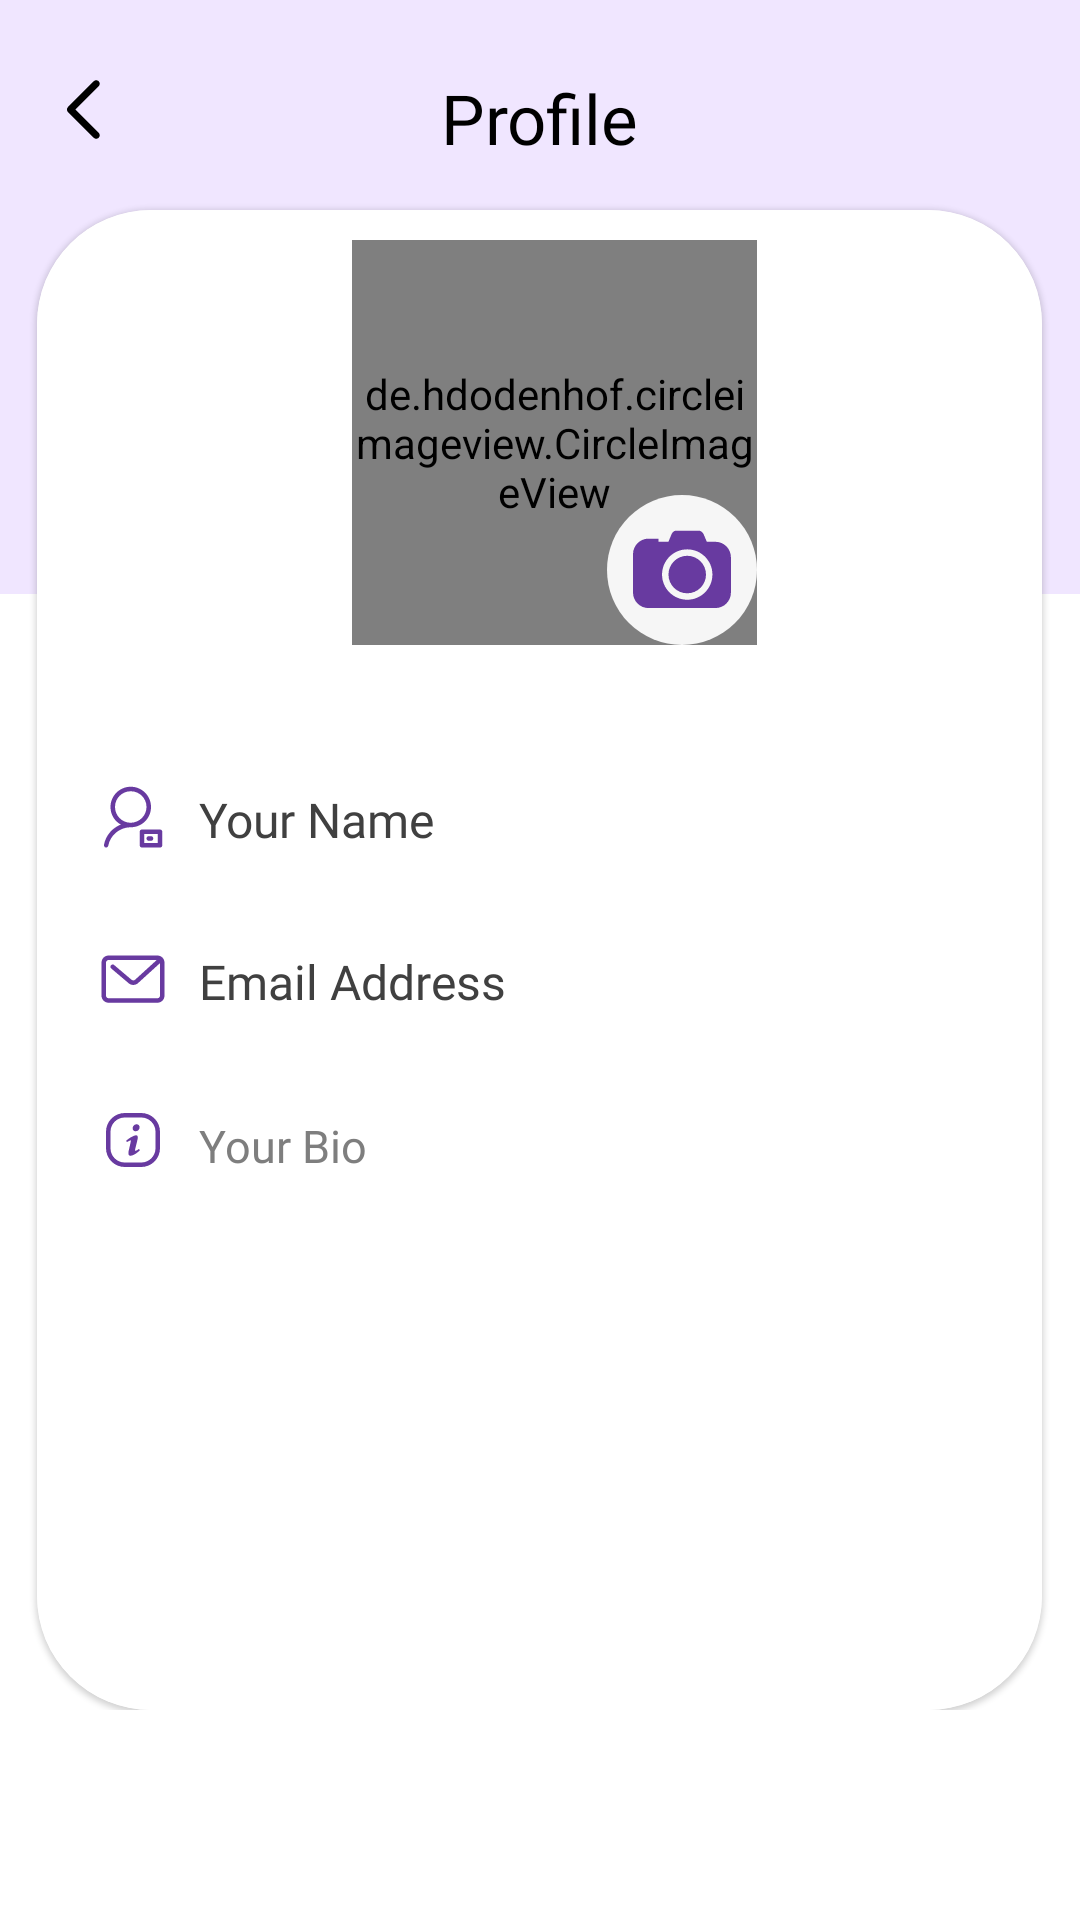

Point at icon controls on the screen. Image size 1080 x 1920, points as point (x, y).
back: point (83, 109)
camera: point (682, 570)
